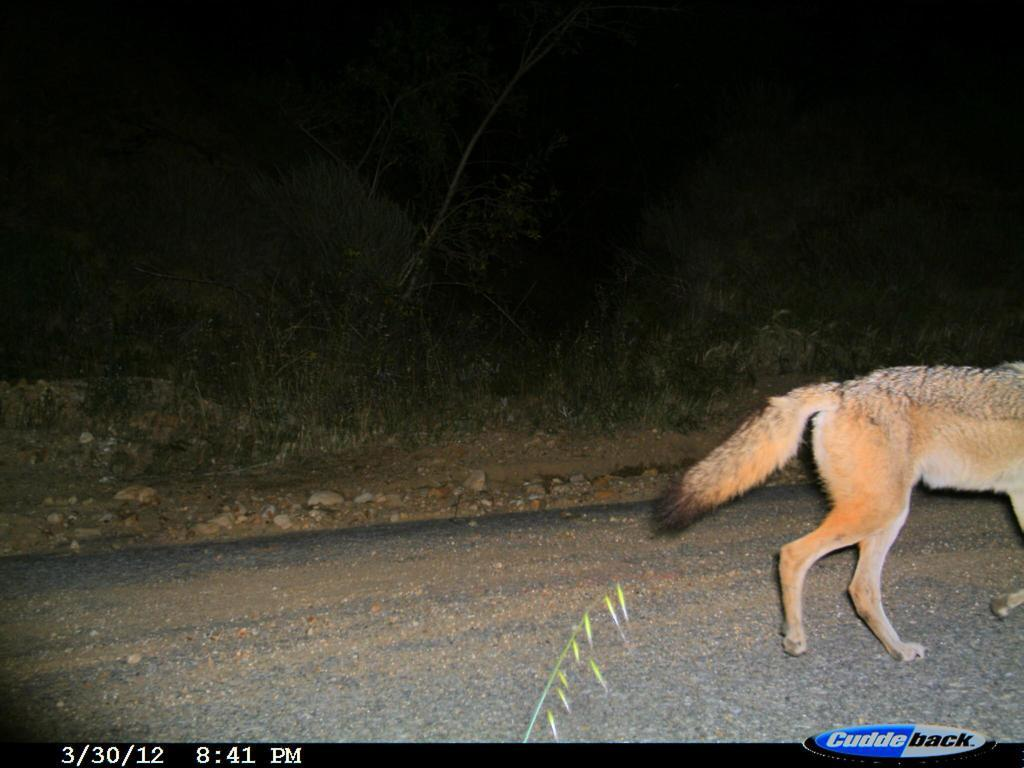coyote: (643, 333, 1024, 666)
